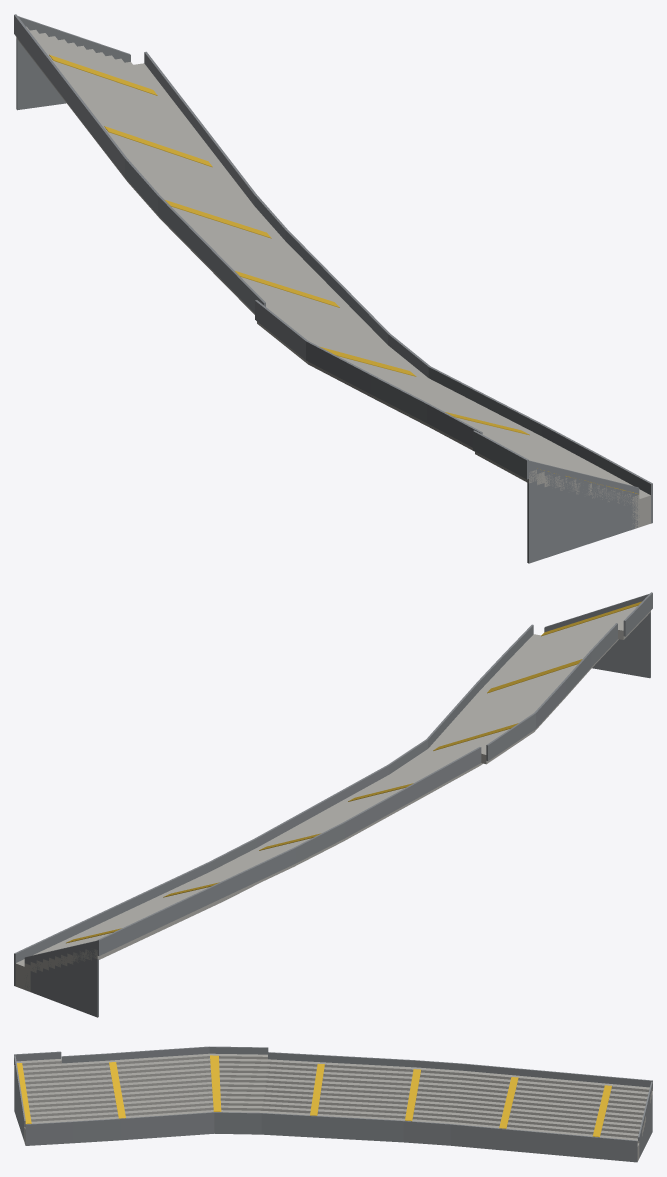
File: spo_stand_a_2.glb
3 views of the same model, one above another, from view 1: azimuth 30°, elevation 25°; view 2: azimuth 150°, elevation 25°; view 3: azimuth 270°, elevation 25° (orthographic). The views are drawn at different scales.
Visible parts, largest first — view 1: sao-paulo-sector-a-2; view 2: sao-paulo-sector-a-2; view 3: sao-paulo-sector-a-2.
Part boxes in pixels (x1,y1,x2,y2): sao-paulo-sector-a-2: [14, 14, 652, 563]; sao-paulo-sector-a-2: [14, 592, 652, 1017]; sao-paulo-sector-a-2: [14, 1046, 652, 1162].
Size of the model in its own units: 22.11 by 9.2 by 95.4.
